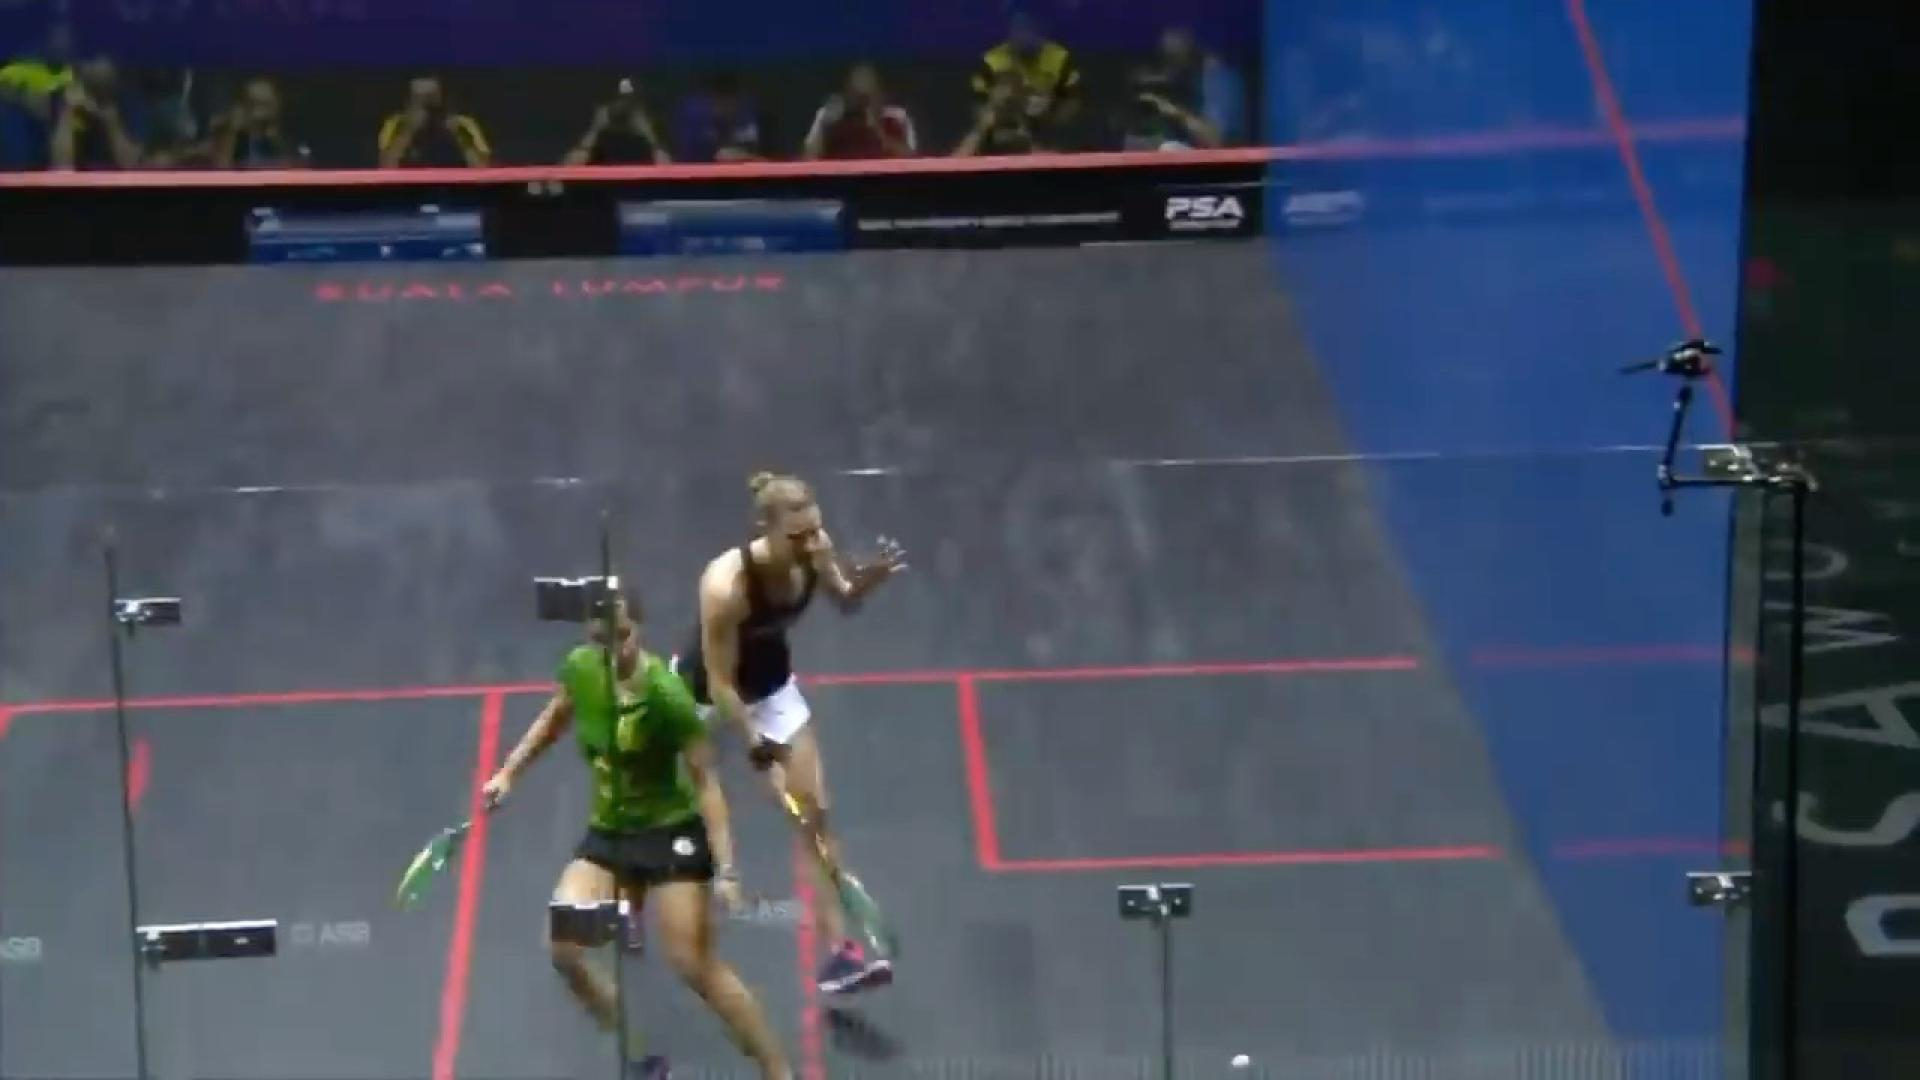Squash-Ball: (1217, 1044, 1270, 1080)
